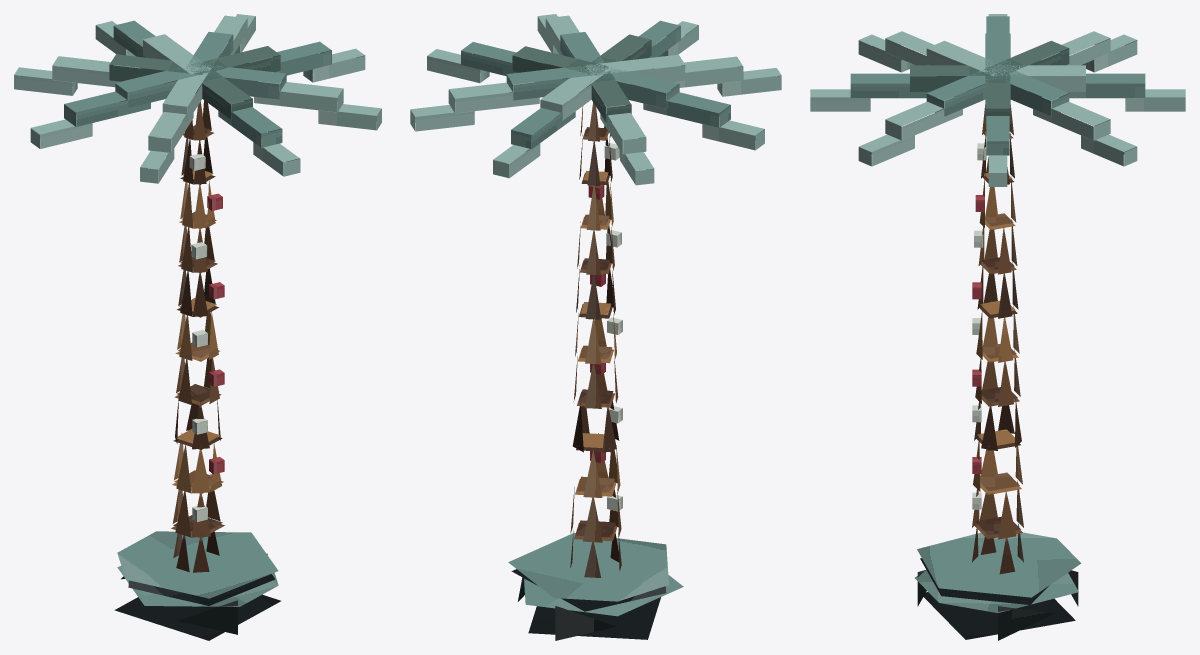
Rendered from palm_tree.glb.
3 views of the same model, side by side, from view 1: azimuth 30°, elevation 25°; view 2: azimuth 150°, elevation 25°; view 3: azimuth 270°, elevation 25° (orthographic).
Parts seen in each view (by area): view 1: PlanterRim, PalmPlanter, FrondMiddle_8, FrondMiddle_5, FrondInner_5, TrunkSegment_3, FrondInner_8, FrondMiddle_4, FrondMiddle_7, TrunkSegment_2, FrondInner_1, FrondInner_7 (+24 smaller); view 2: PlanterRim, PalmPlanter, FrondMiddle_2, FrondInner_2, FrondMiddle_5, FrondInner_5, FrondInner_6, FrondMiddle_6, FrondInner_1, FrondInner_3, FrondMiddle_3, TrunkSegment_3 (+23 smaller); view 3: PlanterRim, PalmPlanter, TrunkSegment_2, FrondInner_2, FrondMiddle_3, FrondMiddle_7, FrondMiddle_2, FrondMiddle_8, FrondInner_8, FrondInner_3, TrunkSegment_4, FrondInner_7 (+21 smaller).
Part boxes in pixels (x1=…): PlanterRim: x1=117, y1=531, x2=278, y2=606; PalmPlanter: x1=114, y1=553, x2=280, y2=640; FrondMiddle_8: x1=254, y1=81, x2=343, y2=112; FrondMiddle_5: x1=64, y1=88, x2=150, y2=126; FrondInner_5: x1=115, y1=65, x2=210, y2=107; TrunkSegment_3: x1=172, y1=429, x2=223, y2=494; FrondInner_8: x1=195, y1=63, x2=286, y2=99; FrondMiddle_4: x1=52, y1=56, x2=141, y2=87; FrondMiddle_7: x1=218, y1=100, x2=282, y2=147; TrunkSegment_2: x1=171, y1=470, x2=224, y2=538; FrondInner_1: x1=187, y1=46, x2=280, y2=78; FrondInner_7: x1=195, y1=71, x2=252, y2=119; PlanterRim: x1=508, y1=532, x2=683, y2=616; PalmPlanter: x1=511, y1=569, x2=666, y2=640; FrondMiddle_2: x1=448, y1=82, x2=539, y2=113; FrondInner_2: x1=506, y1=63, x2=606, y2=100; FrondMiddle_5: x1=643, y1=89, x2=730, y2=127; FrondInner_5: x1=588, y1=65, x2=679, y2=108; FrondInner_6: x1=586, y1=54, x2=685, y2=84; FrondMiddle_6: x1=652, y1=56, x2=743, y2=87; FrondInner_1: x1=512, y1=46, x2=608, y2=79; FrondInner_3: x1=540, y1=68, x2=610, y2=120; FrondMiddle_3: x1=511, y1=101, x2=575, y2=149; TrunkSegment_3: x1=575, y1=433, x2=620, y2=497; PlanterRim: x1=915, y1=532, x2=1081, y2=612; PalmPlanter: x1=917, y1=558, x2=1078, y2=640; TrunkSegment_2: x1=972, y1=472, x2=1023, y2=539; FrondInner_2: x1=984, y1=64, x2=1069, y2=116; FrondMiddle_3: x1=1059, y1=73, x2=1145, y2=98; FrondMiddle_7: x1=850, y1=73, x2=936, y2=98; FrondMiddle_2: x1=1033, y1=97, x2=1110, y2=140; FrondMiddle_8: x1=885, y1=97, x2=962, y2=140; FrondInner_8: x1=926, y1=66, x2=1004, y2=116; FrondInner_3: x1=990, y1=65, x2=1085, y2=91; TrunkSegment_4: x1=974, y1=387, x2=1021, y2=450; FrondInner_7: x1=910, y1=65, x2=1005, y2=91.
Bounding box in the file's own units: 2.34 × 3.69 × 2.34.
Materials: 1 (1 with a texture image).
